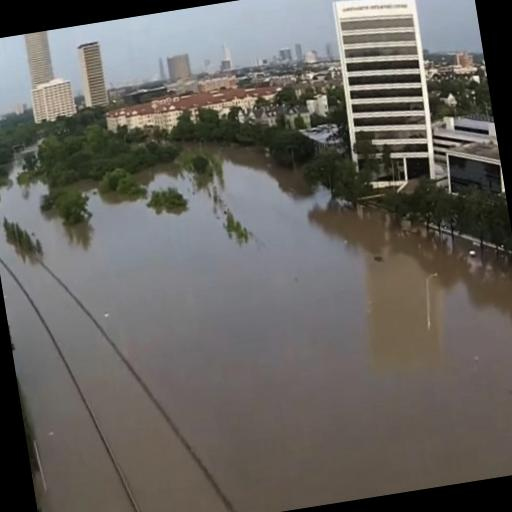flood: (0, 144, 512, 512)
house: (329, 0, 435, 155), (428, 114, 506, 213), (78, 42, 108, 107), (296, 120, 344, 160), (30, 80, 74, 122), (154, 102, 180, 132)
